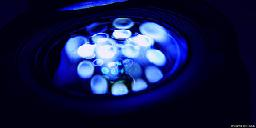LED: (71, 33, 169, 93)
